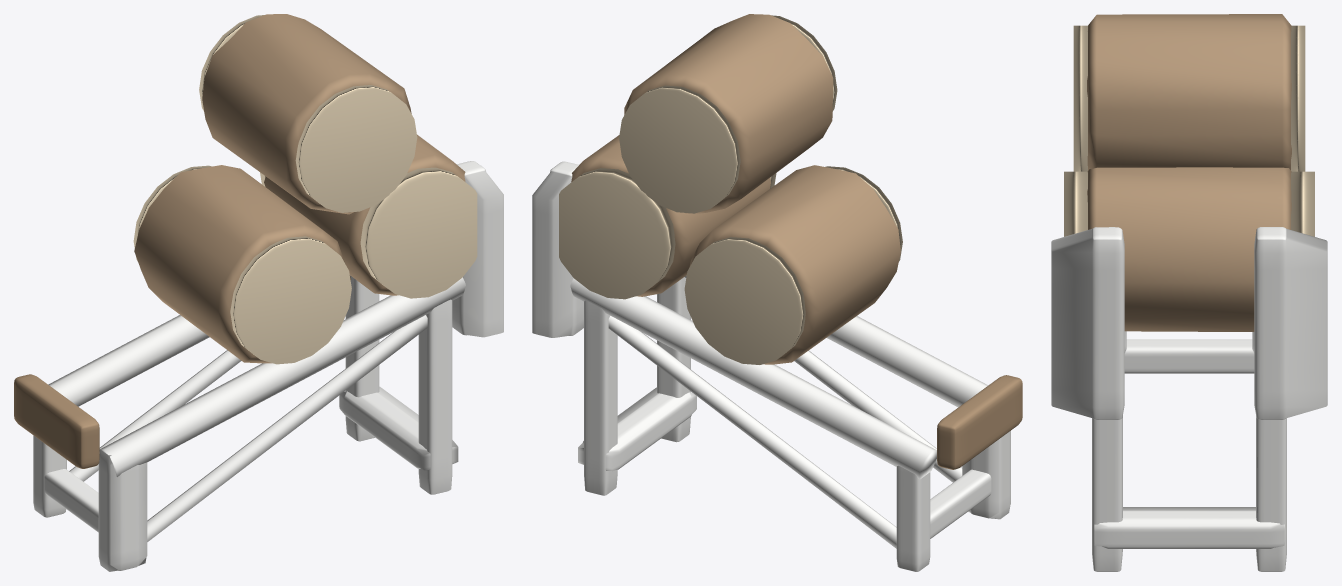
File: LogJamRack.glb
3 renders of one model, left to right at view 1: azimuth 30°, elevation 25°; view 2: azimuth 150°, elevation 25°; view 3: azimuth 270°, elevation 25°, orthographic. The views are drawn at different scales.
Parts seen in each view (by area): view 1: Frame, Logs, LogEnds, Peg; view 2: Frame, Logs, LogEnds, Peg; view 3: Logs, Frame, LogEnds.
Boxes of the visible parts, x1=… form: Frame: x1=33, y1=161, x2=503, y2=571; Logs: x1=134, y1=14, x2=465, y2=363; LogEnds: x1=133, y1=15, x2=477, y2=364; Peg: x1=14, y1=374, x2=99, y2=468; Frame: x1=532, y1=161, x2=1010, y2=571; Logs: x1=571, y1=14, x2=900, y2=364; LogEnds: x1=559, y1=15, x2=902, y2=364; Peg: x1=937, y1=375, x2=1022, y2=469; Logs: x1=1087, y1=14, x2=1291, y2=331; Frame: x1=1051, y1=227, x2=1327, y2=571; LogEnds: x1=1064, y1=25, x2=1314, y2=236.
Bounding box in the file's own units: 5.38 × 5.66 × 2.86.
